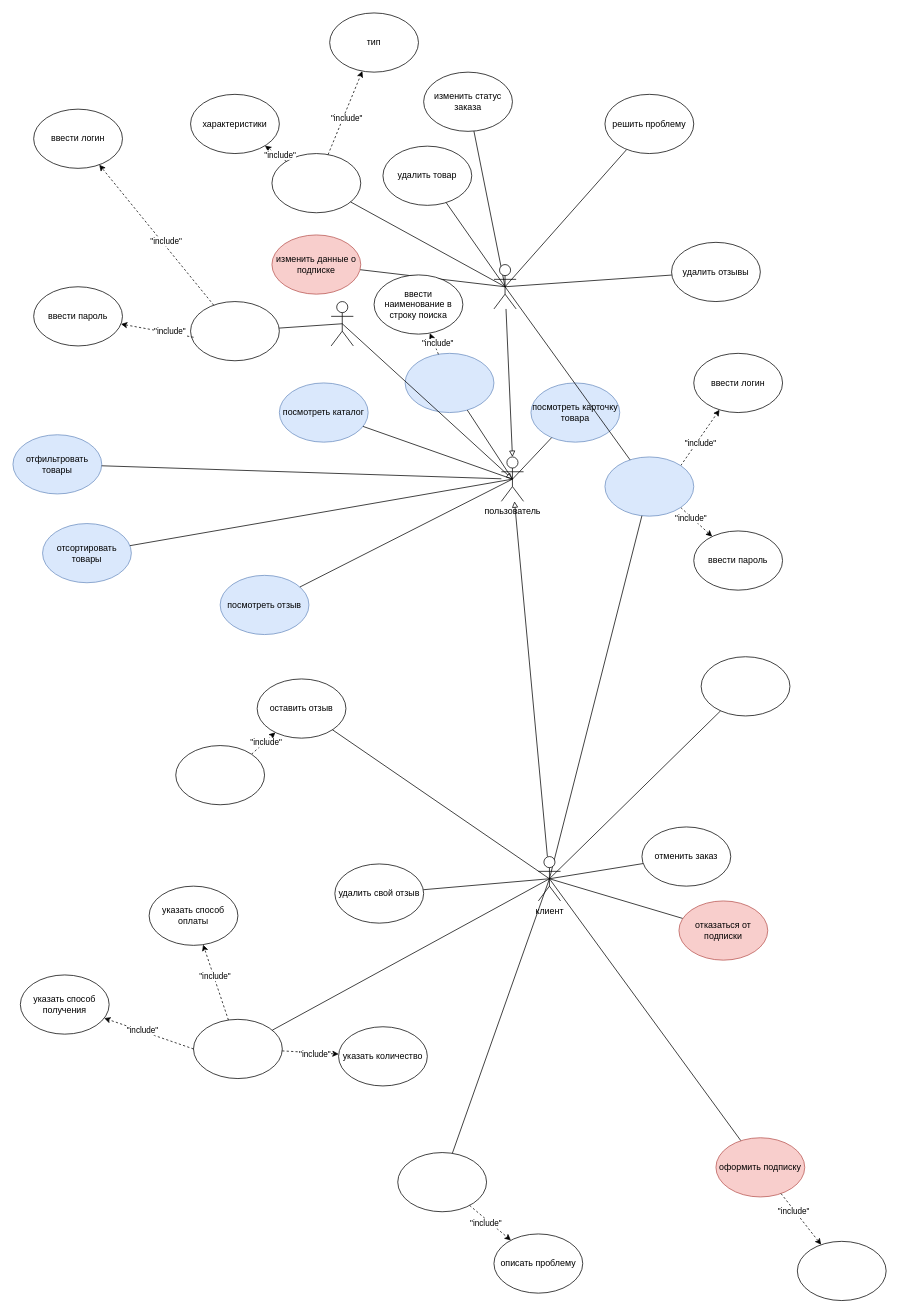
Image size: 899x1314. Some labels were removed from this diagram. Each missing label, with the box of its shape:
администратор: (493, 264, 516, 309)
войти: (604, 456, 694, 516)
выбрать тип подписки: (797, 1241, 886, 1301)
гость: (330, 301, 353, 346)
добавить товар: (271, 153, 361, 213)
добавить товар в корзину: (700, 656, 790, 716)
зарегистрироваться: (190, 301, 279, 361)
написать отзыв: (175, 745, 265, 805)
оформить заказ: (193, 1019, 282, 1079)
поиск товара: (404, 353, 494, 413)
сообщить о проблеме: (397, 1152, 487, 1212)
